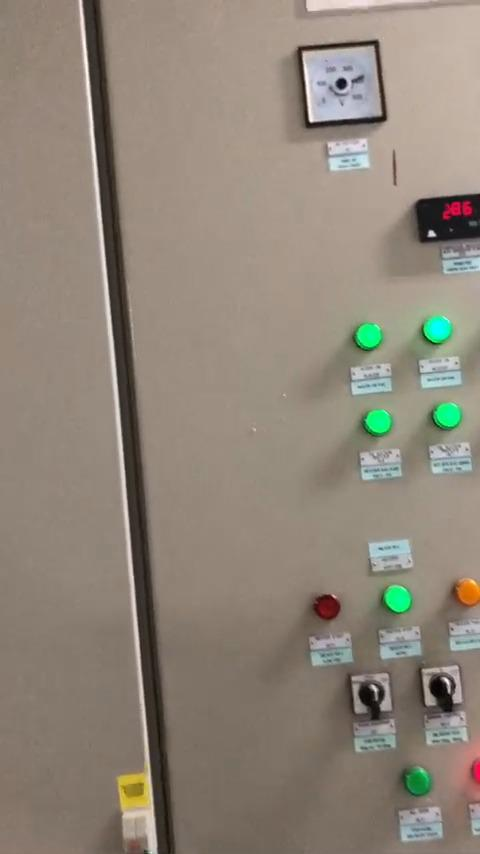led: (311, 588, 344, 624), (397, 766, 431, 800), (353, 321, 384, 353), (450, 580, 480, 610), (383, 585, 413, 615), (433, 401, 463, 430), (365, 409, 394, 438), (422, 318, 450, 346), (463, 750, 480, 785)
twist: (348, 674, 390, 720), (420, 666, 461, 713)
